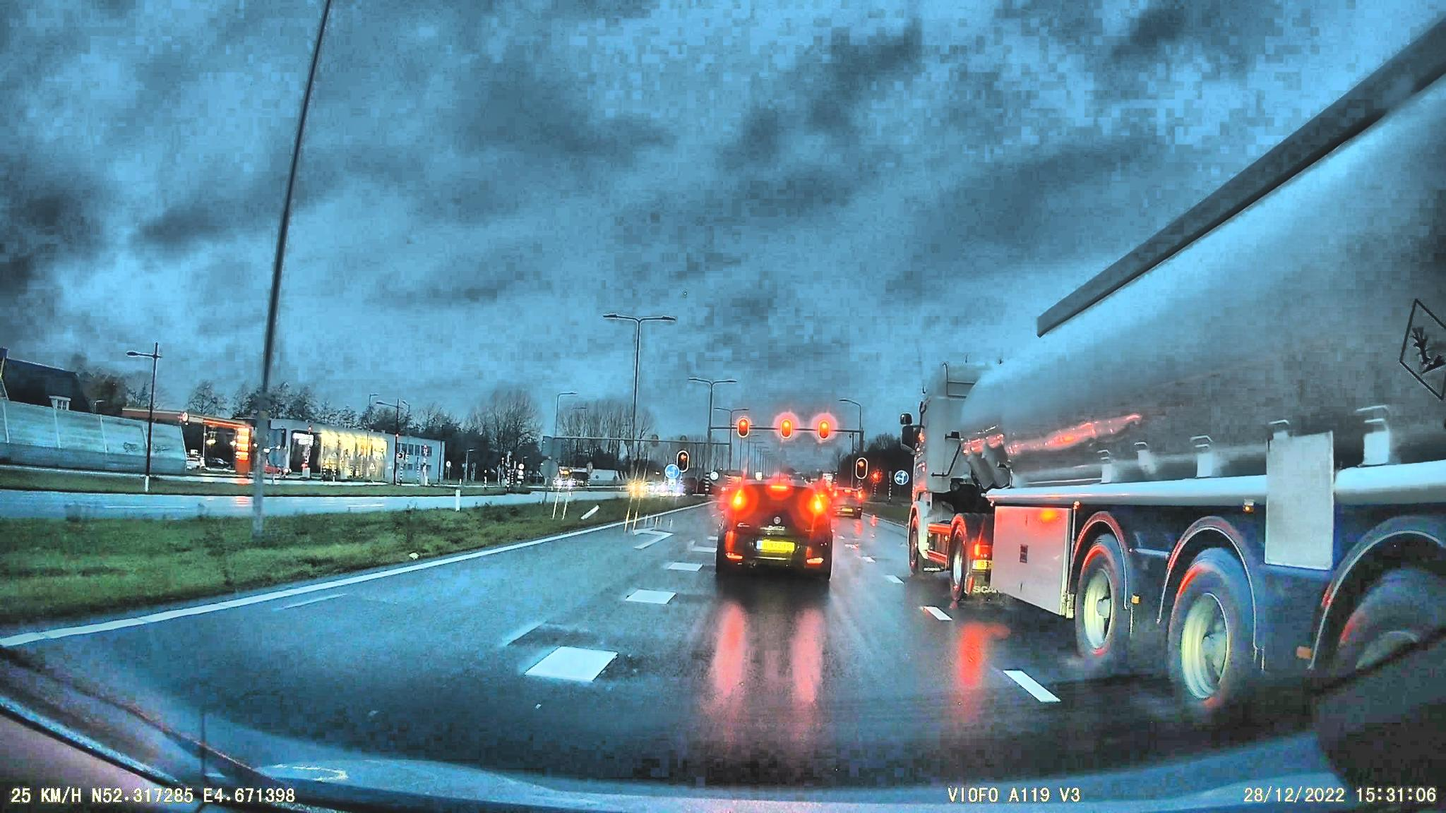Roads: (0, 511, 1341, 813)
